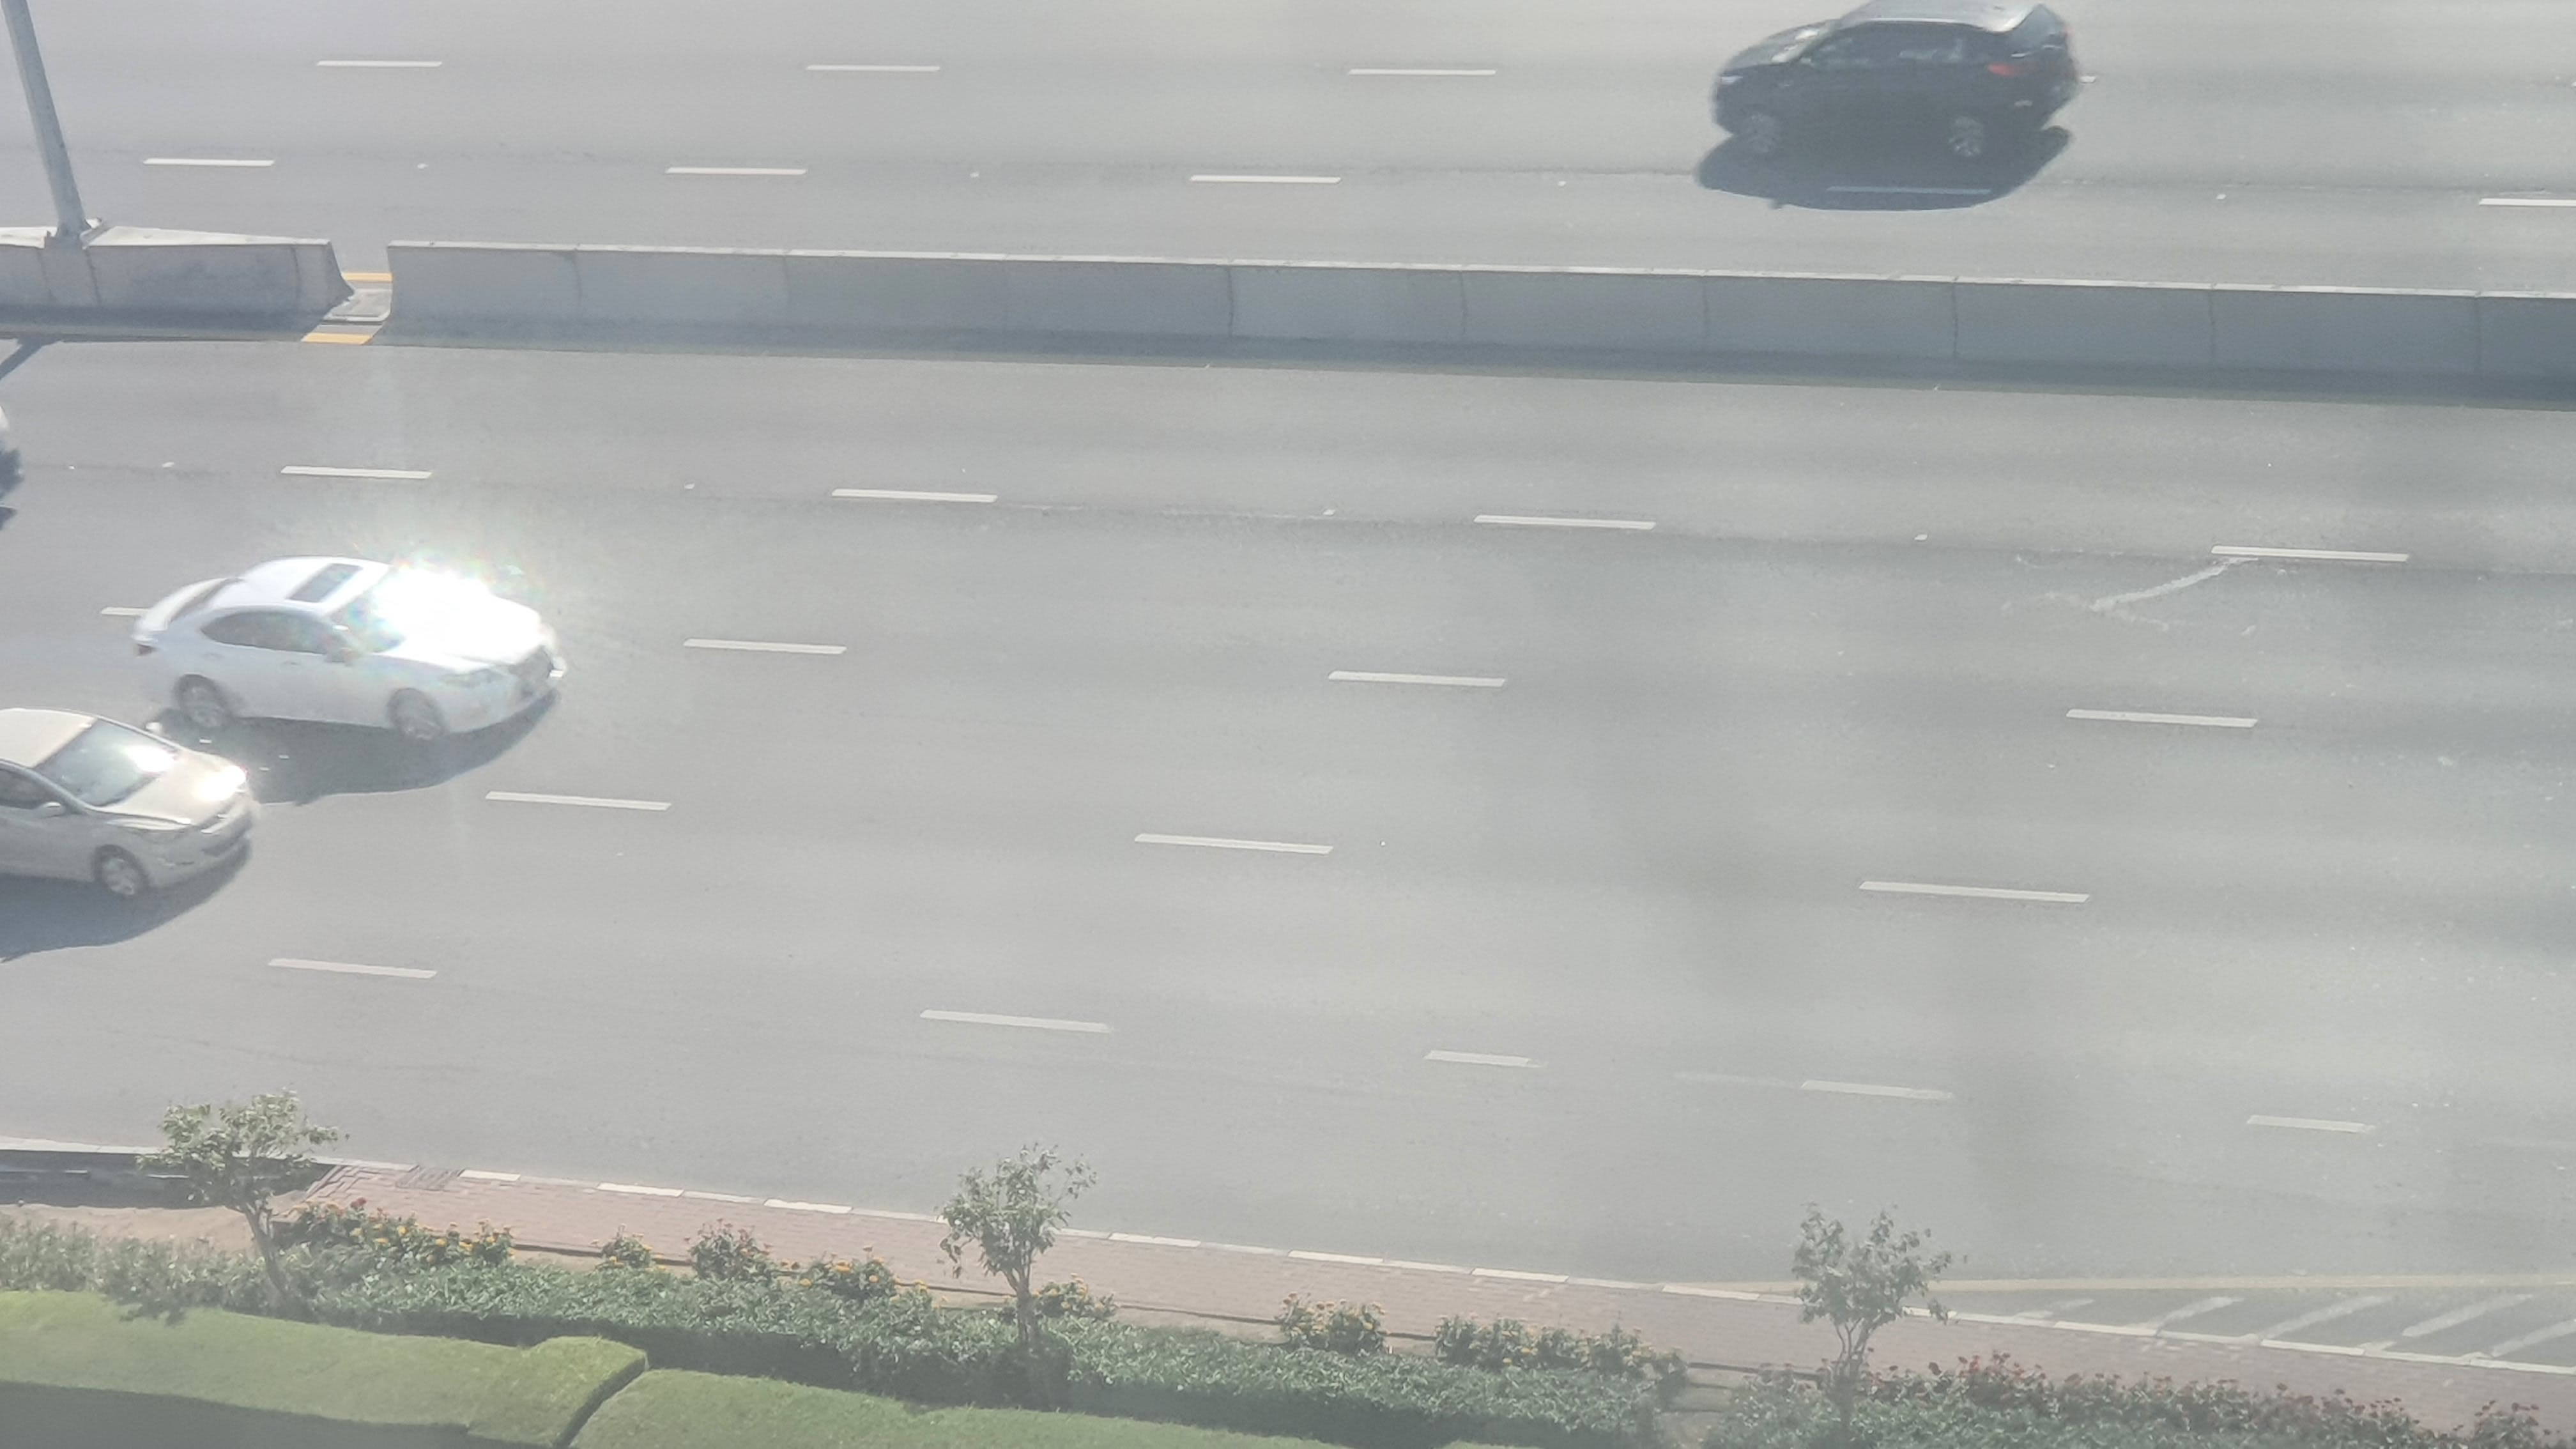NotSunroof: (4, 701, 258, 913)
Sunroof: (127, 556, 570, 759)
